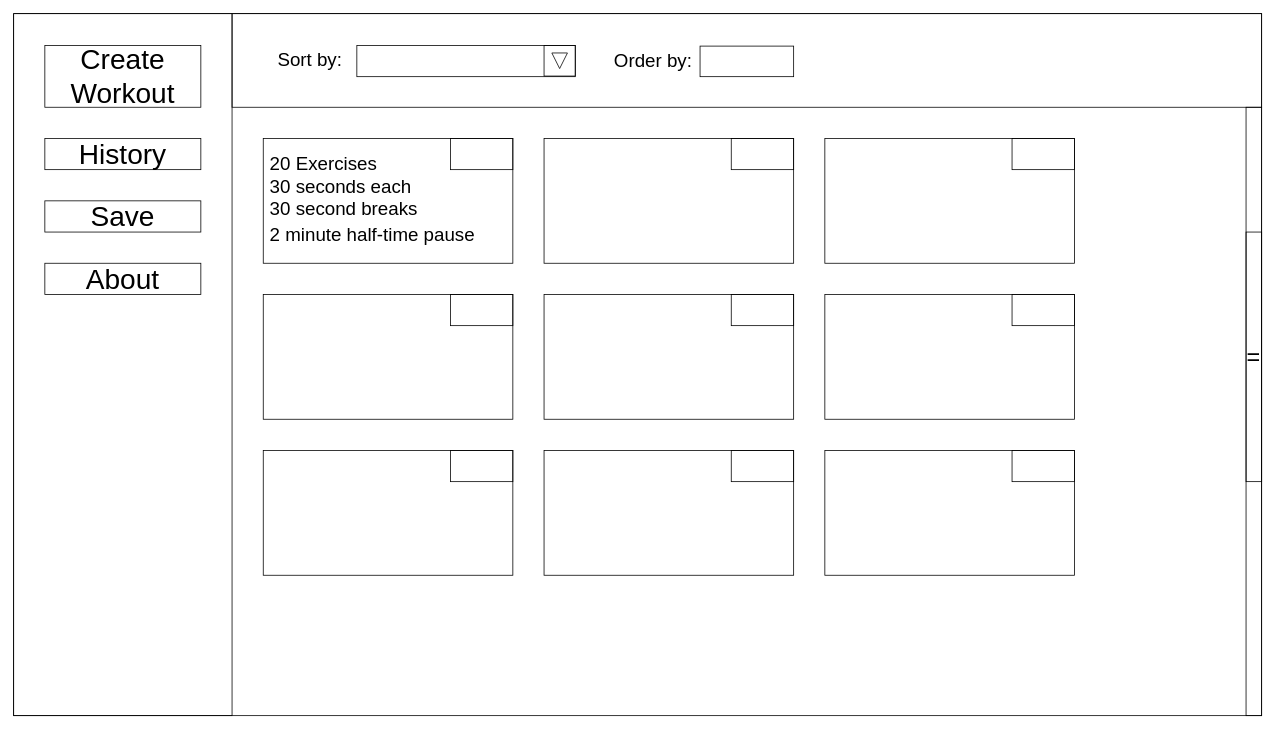
This 1275x729 diagram has some shape labels left out. The shapes that lost their labels are listed below. From the top down, each one's box as (x1, y1, x2, y2) in pixels, then its label:
(356, 45, 575, 77): Time
(699, 45, 794, 77): Ascending
(450, 138, 513, 170): 22m
